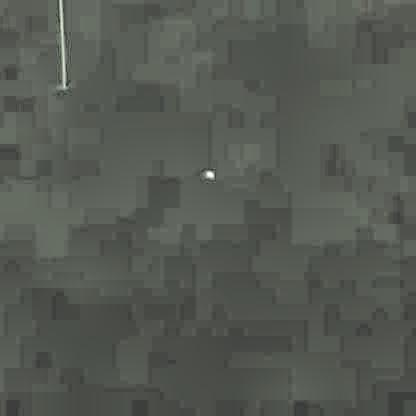golfball: (200, 171, 213, 181)
